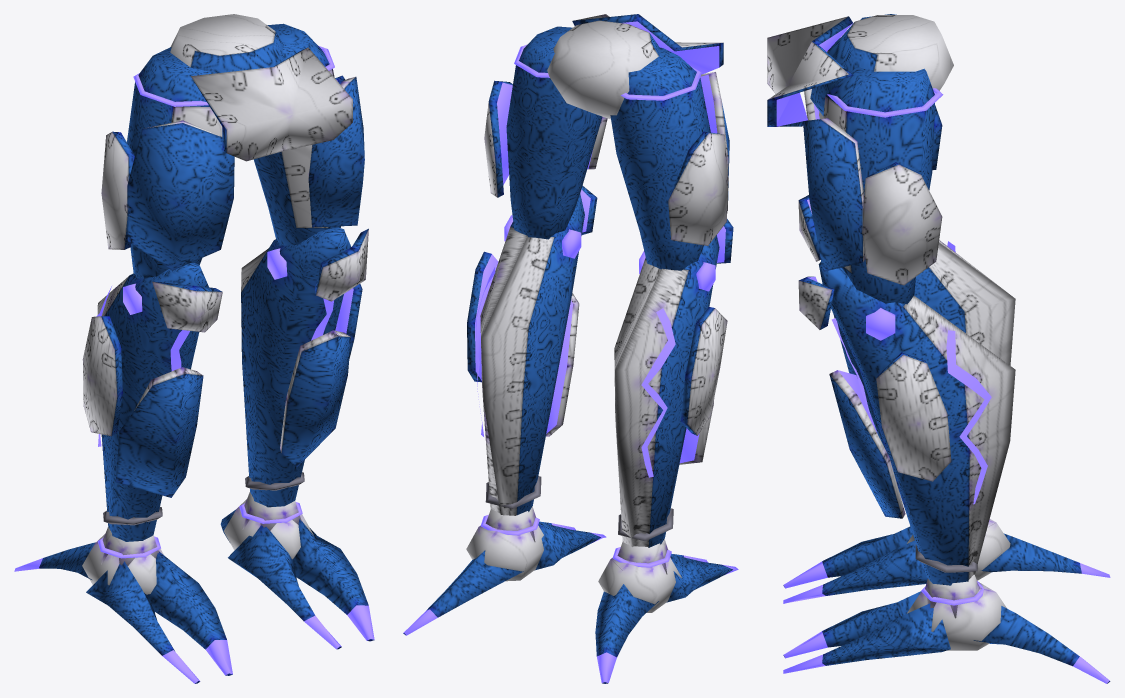
File: ArmorLegsZ.glb
3 renders of one model, left to right at view 1: azimuth 30°, elevation 25°; view 2: azimuth 150°, elevation 25°; view 3: azimuth 270°, elevation 25°, orthographic. The views are drawn at different scales.
Visible parts, largest first — view 1: ArmorLegsZ_ShinL, ArmorLegsZ_ShinR, ArmorLegsZ_ThighL, ArmorLegsZ_Pelvis, ArmorLegsZ_FootL, ArmorLegsZ_ThighR, ArmorLegsZ_FootR; view 2: ArmorLegsZ_ShinR, ArmorLegsZ_ShinL, ArmorLegsZ_ThighL, ArmorLegsZ_ThighR, ArmorLegsZ_Pelvis, ArmorLegsZ_FootL, ArmorLegsZ_FootR; view 3: ArmorLegsZ_ShinR, ArmorLegsZ_ThighR, ArmorLegsZ_FootR, ArmorLegsZ_Pelvis, ArmorLegsZ_FootL, ArmorLegsZ_ShinL, ArmorLegsZ_ThighL.
Part boxes in pixels (left/top/right/bottom): ArmorLegsZ_ShinL: left=82, top=262, right=222, bottom=541; ArmorLegsZ_ShinR: left=241, top=227, right=368, bottom=507; ArmorLegsZ_ThighL: left=101, top=47, right=234, bottom=278; ArmorLegsZ_Pelvis: left=170, top=14, right=352, bottom=161; ArmorLegsZ_FootL: left=14, top=527, right=232, bottom=683; ArmorLegsZ_ThighR: left=253, top=23, right=364, bottom=245; ArmorLegsZ_FootR: left=220, top=492, right=374, bottom=649; ArmorLegsZ_ShinR: left=467, top=185, right=597, bottom=515; ArmorLegsZ_ShinL: left=614, top=219, right=733, bottom=547; ArmorLegsZ_ThighL: left=610, top=47, right=729, bottom=270; ArmorLegsZ_ThighR: left=484, top=26, right=607, bottom=239; ArmorLegsZ_Pelvis: left=547, top=14, right=723, bottom=119; ArmorLegsZ_FootL: left=595, top=539, right=738, bottom=683; ArmorLegsZ_FootR: left=403, top=506, right=606, bottom=635; ArmorLegsZ_ShinR: left=798, top=261, right=1015, bottom=585; ArmorLegsZ_ThighR: left=803, top=67, right=943, bottom=304; ArmorLegsZ_FootR: left=783, top=574, right=1110, bottom=683; ArmorLegsZ_Pelvis: left=767, top=15, right=953, bottom=126; ArmorLegsZ_FootL: left=783, top=519, right=1110, bottom=603; ArmorLegsZ_ShinL: left=798, top=195, right=1015, bottom=449; ArmorLegsZ_ThighL: left=804, top=14, right=942, bottom=170.
Size of the model in its own units: 9.88 by 21.44 by 11.21.
Materials: 5 (4 with a texture image).
